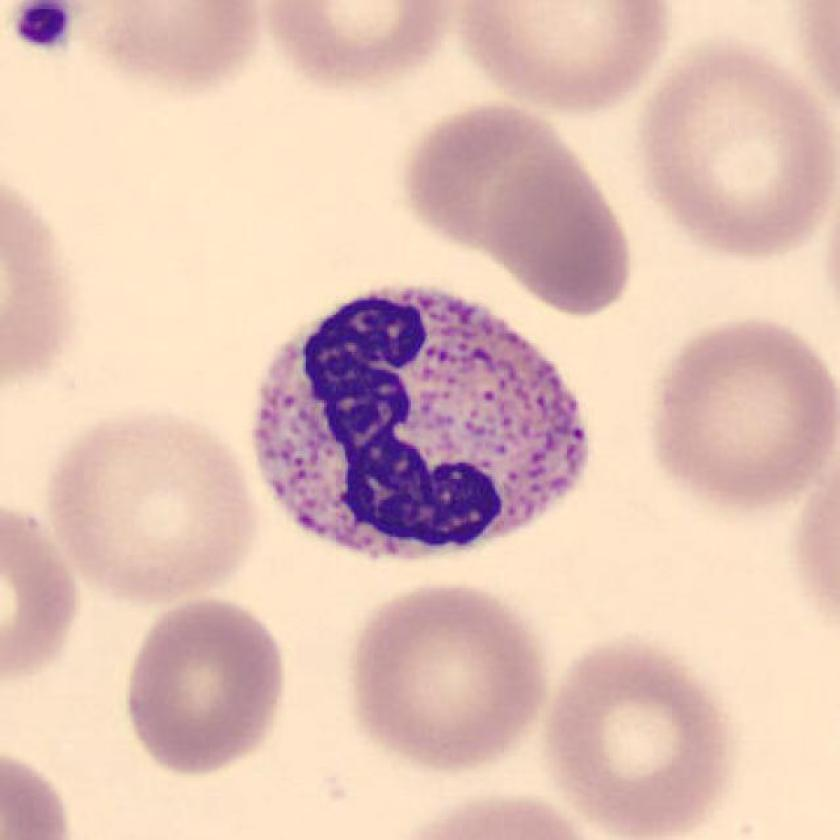neutrophil: (257, 287, 590, 559)
